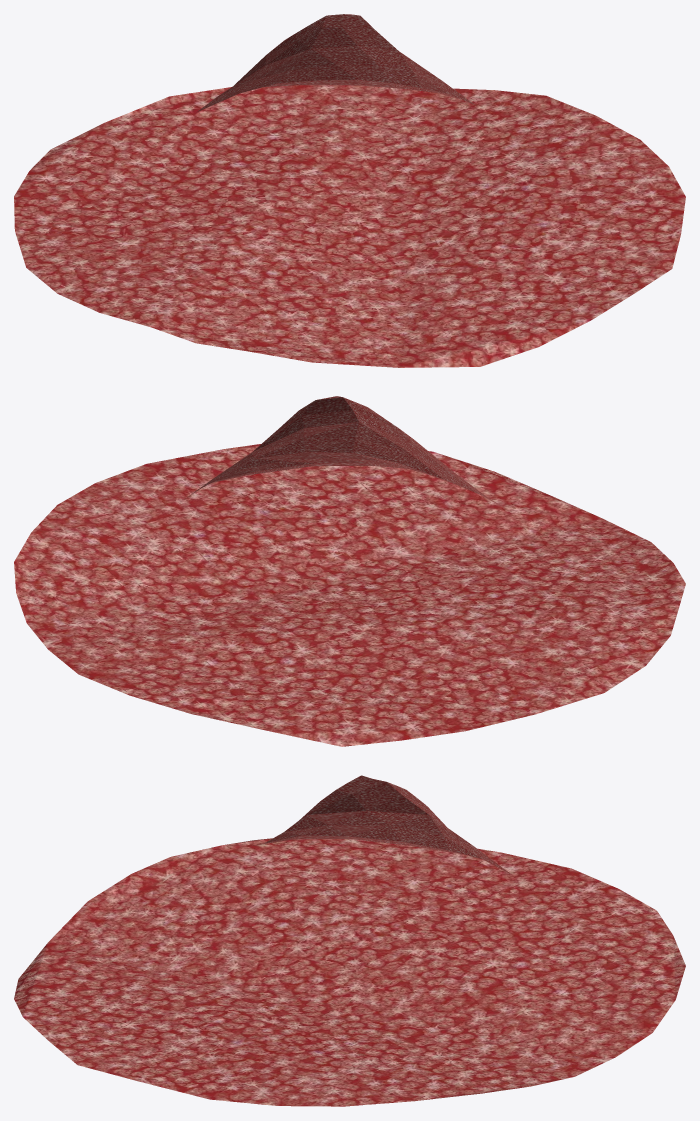
The model's file is GS_KRWAWY_PROCH.glb.
3 renders of one model, top to bottom at view 1: azimuth 30°, elevation 25°; view 2: azimuth 150°, elevation 25°; view 3: azimuth 270°, elevation 25°, orthographic.
Visible parts, largest first — view 1: GS_KRWAWY_PROCH; view 2: GS_KRWAWY_PROCH; view 3: GS_KRWAWY_PROCH.
Boxes of the visible parts, x1=… form: GS_KRWAWY_PROCH: x1=14, y1=14, x2=685, y2=367; GS_KRWAWY_PROCH: x1=14, y1=396, x2=685, y2=746; GS_KRWAWY_PROCH: x1=14, y1=775, x2=685, y2=1106.
Size of the model in its own units: 0.3449 by 0.1201 by 0.3434.
Materials: 1 (1 with a texture image).
